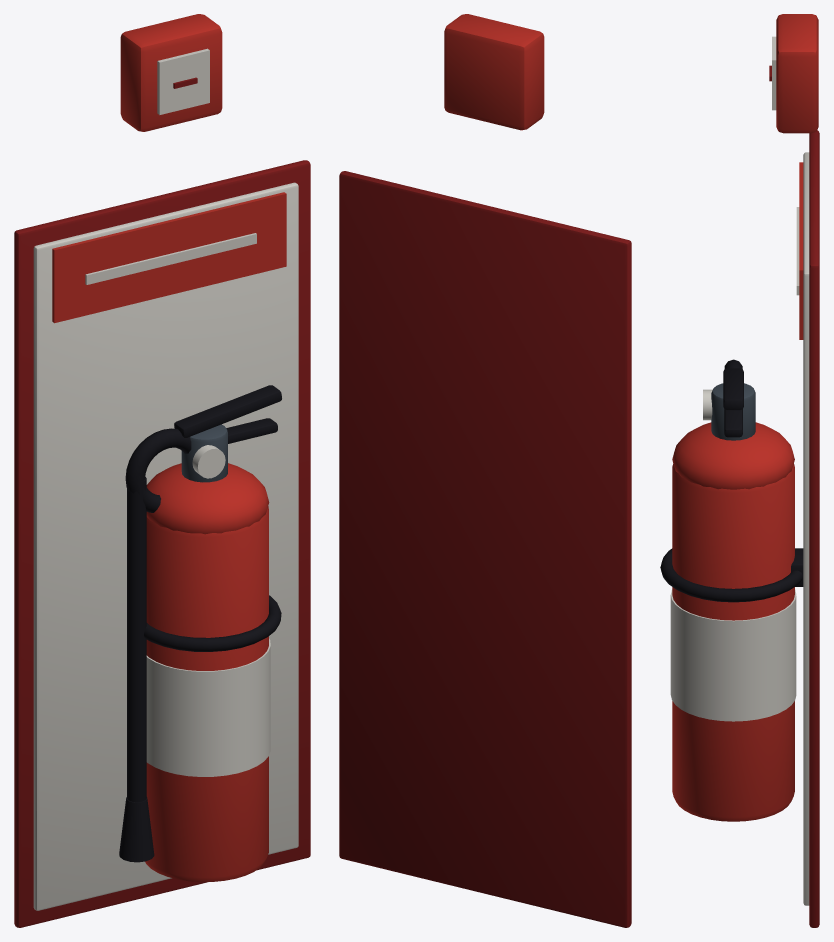
3 views of the same model, side by side, from view 1: azimuth 30°, elevation 25°; view 2: azimuth 150°, elevation 25°; view 3: azimuth 270°, elevation 25° (orthographic). The views are drawn at different scales.
Visible parts, largest first — view 1: kit_fire_point; view 2: kit_fire_point; view 3: kit_fire_point.
Boxes of the visible parts, left/top/right/bottom form: kit_fire_point: left=14, top=14, right=310, bottom=927; kit_fire_point: left=339, top=14, right=631, bottom=927; kit_fire_point: left=660, top=14, right=819, bottom=927.
Size of the model in its own units: 0.3799 by 1.07 by 0.187.
